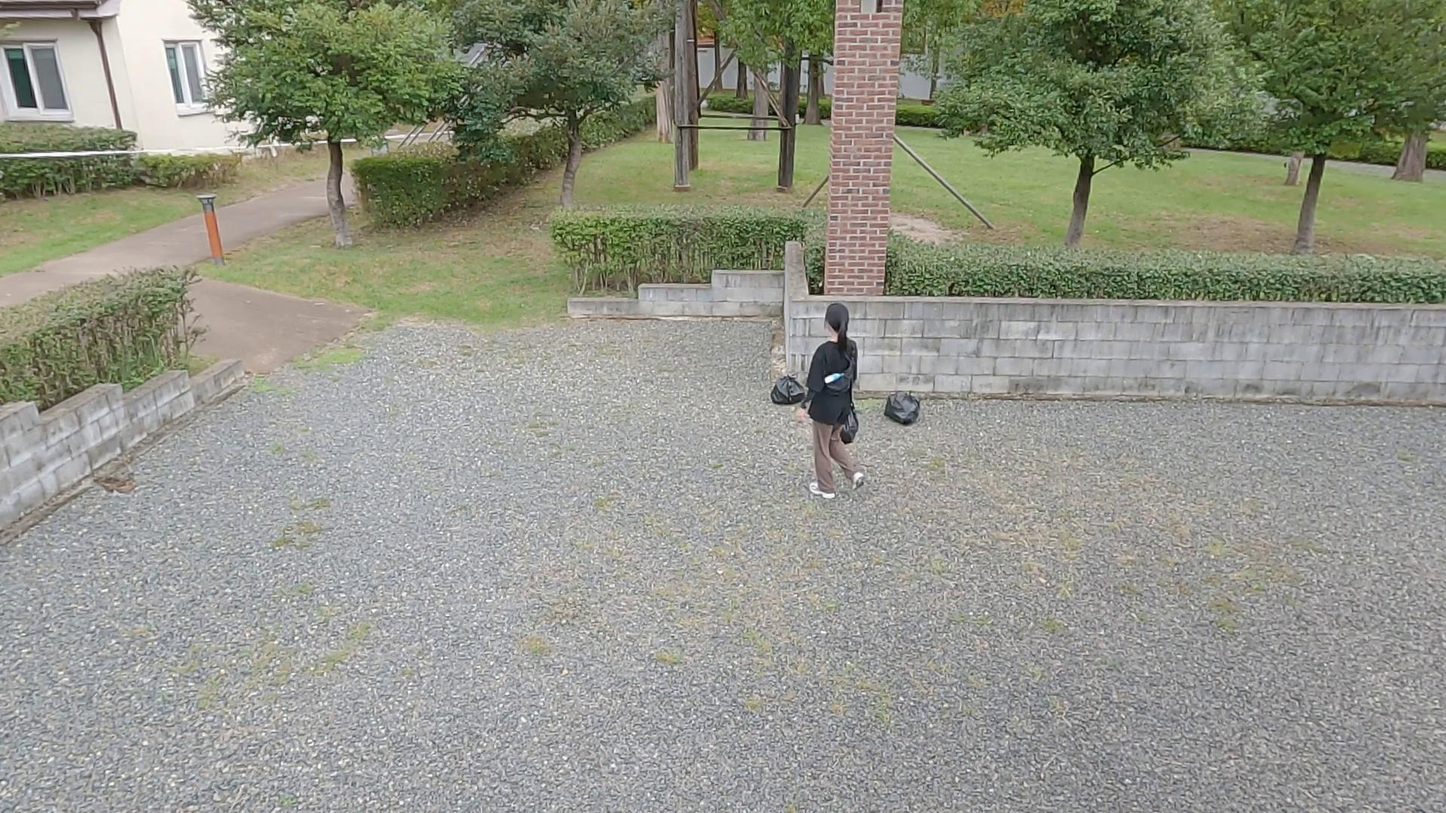person: (793, 300, 876, 499)
trash: (883, 387, 925, 427), (767, 370, 805, 409), (837, 397, 860, 446)
